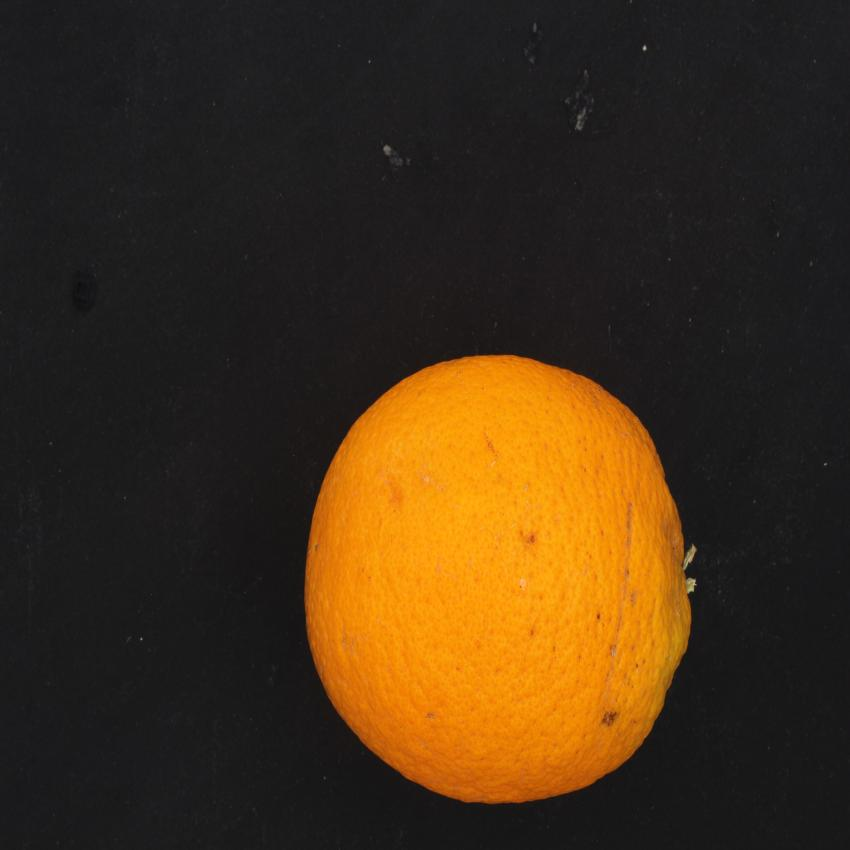Mal estado: (293, 338, 719, 819)
